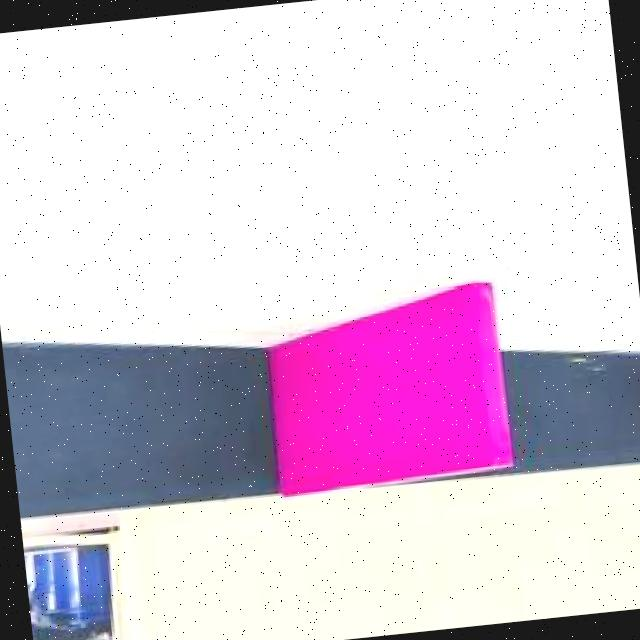xparking: (264, 299, 512, 486)
